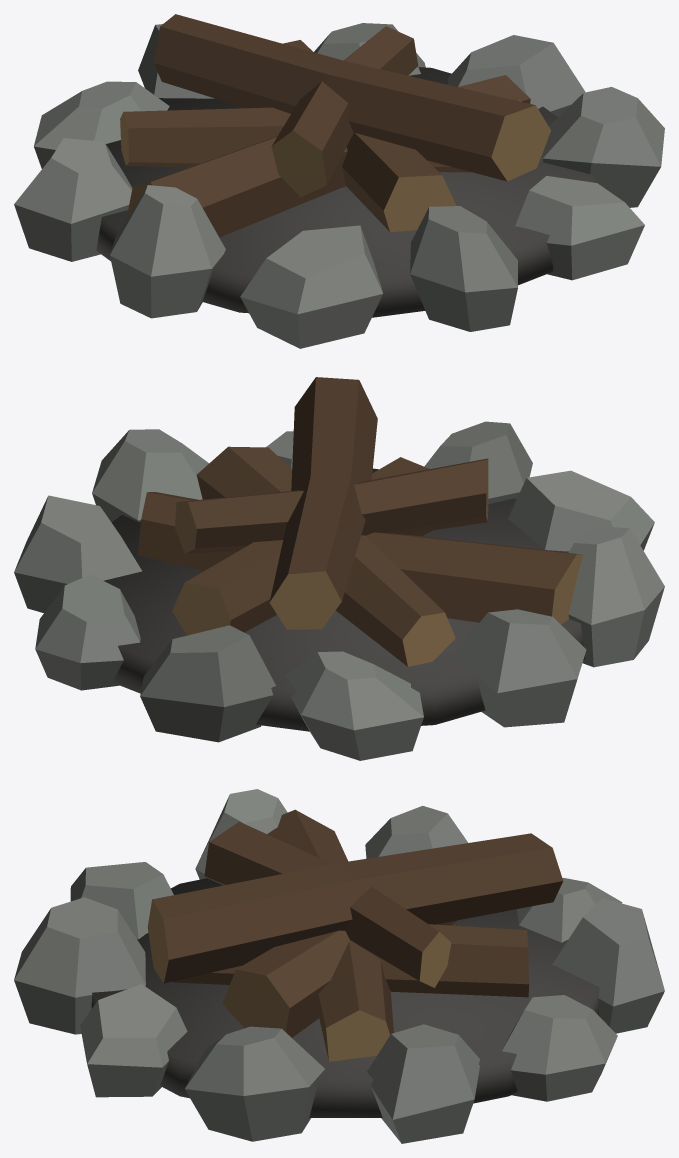
Rendered from campfire_base_lod0.glb.
3 renders of one model, top to bottom at view 1: azimuth 30°, elevation 25°; view 2: azimuth 150°, elevation 25°; view 3: azimuth 270°, elevation 25°, orthographic. The views are drawn at different scales.
Visible parts, largest first — view 1: campfire_base; view 2: campfire_base; view 3: campfire_base.
Part boxes in pixels (bbox=[...]): campfire_base: bbox=[14, 14, 664, 348]; campfire_base: bbox=[14, 377, 664, 760]; campfire_base: bbox=[14, 789, 664, 1143].
Size of the model in its own units: 1.54 by 0.3983 by 1.55.
